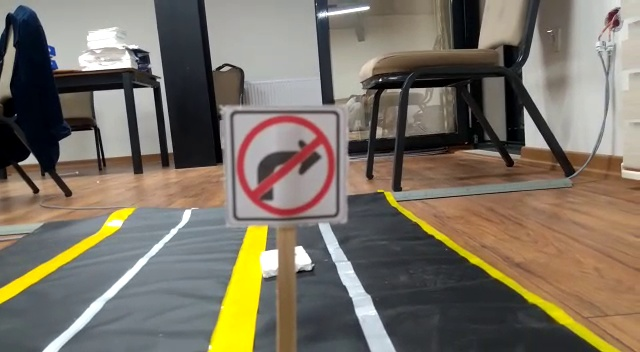saga_donulmez: (231, 110, 344, 219)
